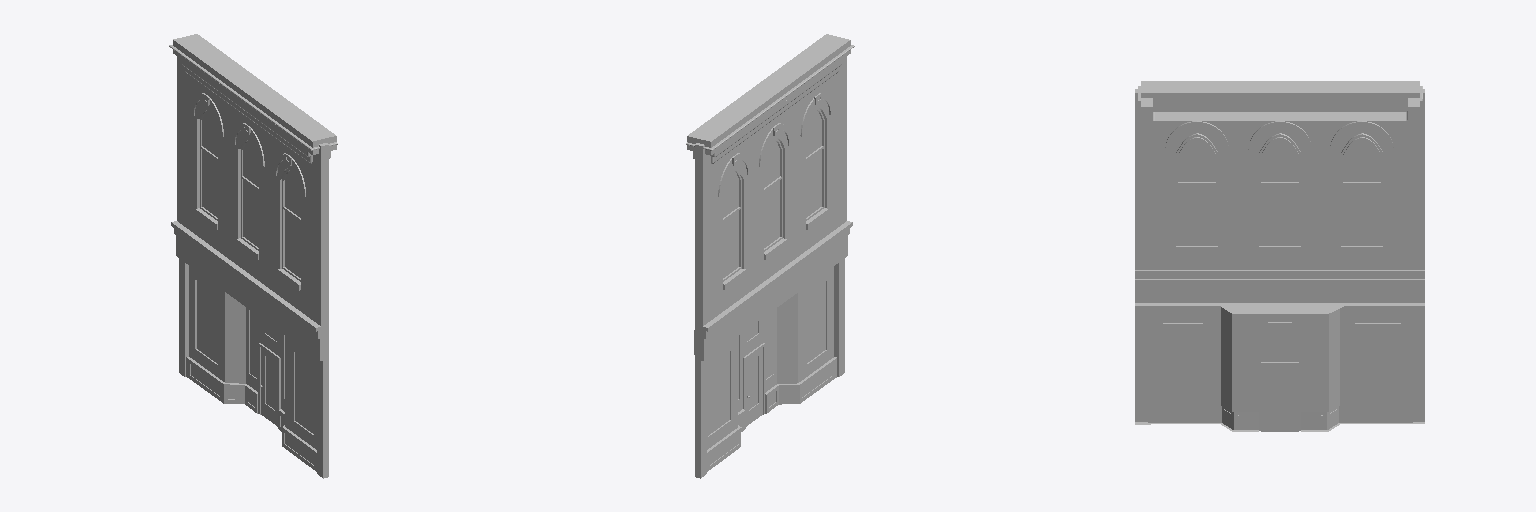
Rendered from downtownBuilding_1.obj.
3 renders of one model, left to right at view 1: azimuth 30°, elevation 25°; view 2: azimuth 150°, elevation 25°; view 3: azimuth 270°, elevation 25°, orthographic.
Visible parts, largest first — view 1: Cube_Cube.005; view 2: Cube_Cube.005; view 3: Cube_Cube.005.
Part boxes in pixels (x1,y1,x2,y2): Cube_Cube.005: (169, 34, 337, 478); Cube_Cube.005: (686, 34, 854, 478); Cube_Cube.005: (1135, 81, 1424, 431).
Bounding box in the file's own units: 0.9072 × 9.26 × 7.2.